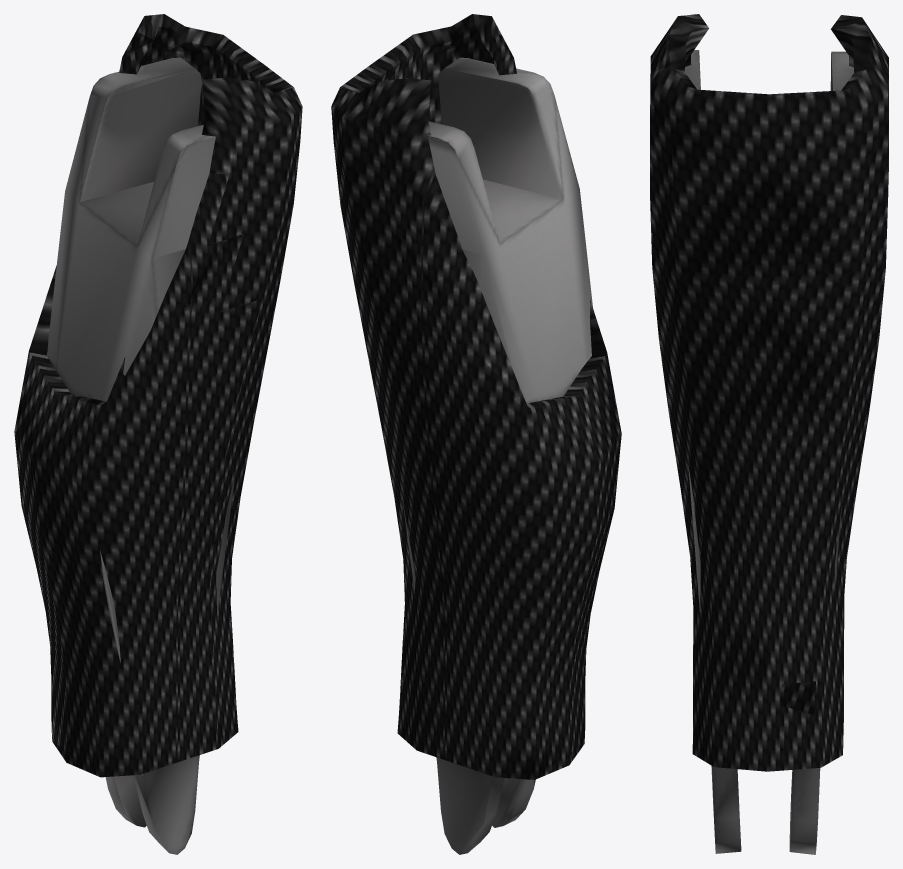
The model's file is l_lleg.dae.
3 renders of one model, left to right at view 1: azimuth 30°, elevation 25°; view 2: azimuth 150°, elevation 25°; view 3: azimuth 270°, elevation 25°, orthographic. The views are drawn at different scales.
Visible parts, largest first — view 1: p39968_2, p24403_2; view 2: p39968_2, p24403_2; view 3: p39968_2, p24403_2.
Boxes of the visible parts, <box> form: p39968_2: <box>14,14,302,777</box>; p24403_2: <box>46,57,235,854</box>; p39968_2: <box>331,14,621,779</box>; p24403_2: <box>403,57,592,854</box>; p39968_2: <box>650,14,888,771</box>; p24403_2: <box>685,50,853,854</box>.
Bounding box in the file's own units: 0.1465 × 0.1205 × 0.476.
